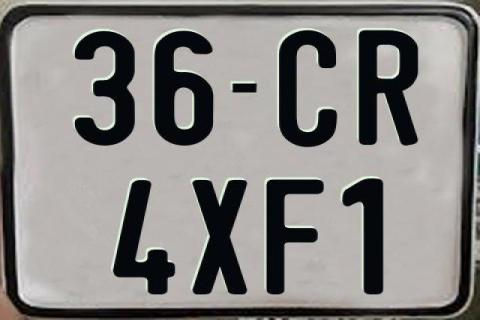0: (110, 179, 174, 299), (74, 30, 136, 150), (151, 29, 215, 144), (339, 176, 384, 293)
C: (277, 29, 335, 145)
F: (266, 179, 328, 295)
R: (359, 31, 423, 149)
X: (192, 180, 252, 299)
